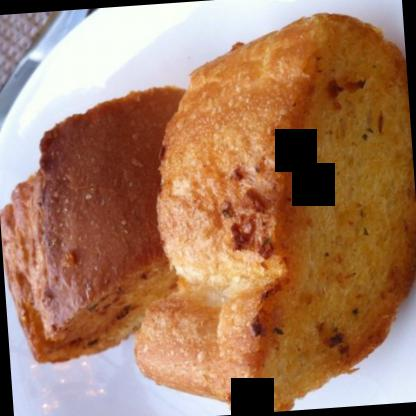toast bread: (110, 16, 416, 415), (0, 81, 238, 363)
